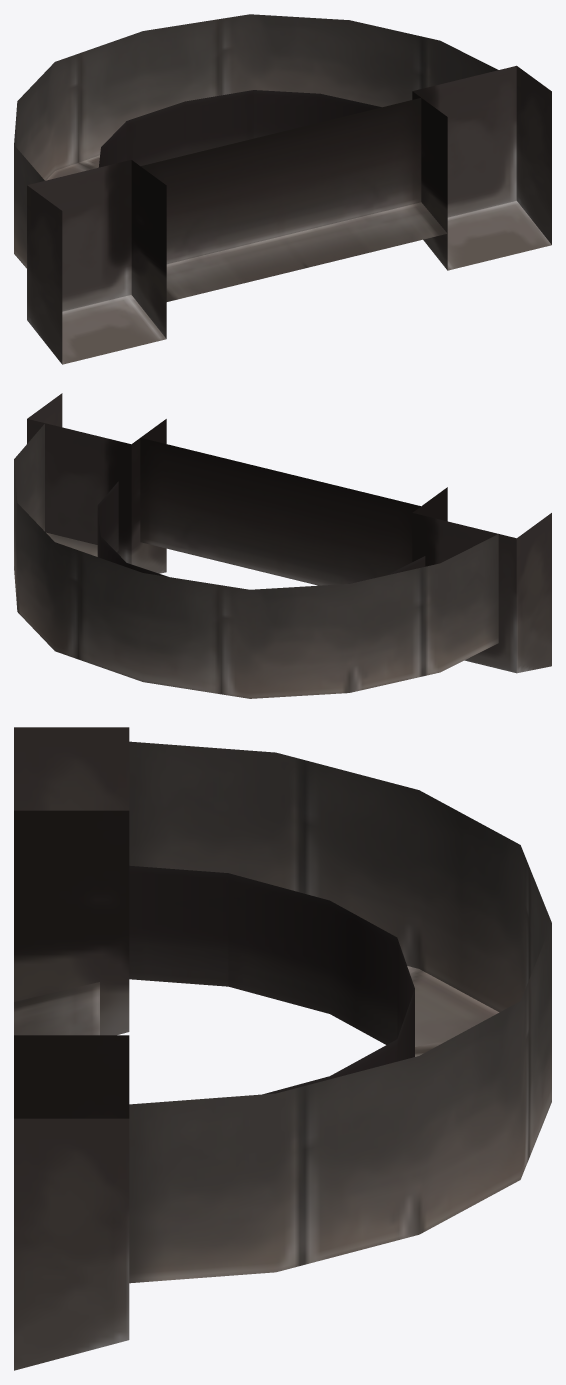
The model's file is Wall_props.fbx.
3 views of the same model, one above another, from view 1: azimuth 30°, elevation 25°; view 2: azimuth 150°, elevation 25°; view 3: azimuth 270°, elevation 25° (orthographic). The views are drawn at different scales.
Parts seen in each view (by area): view 1: Wall_props; view 2: Wall_props; view 3: Wall_props.
Part boxes in pixels (left/top/right/bottom): Wall_props: left=14, top=14, right=551, bottom=364; Wall_props: left=14, top=393, right=551, bottom=698; Wall_props: left=14, top=727, right=551, bottom=1370.
Size of the model in its own units: 1.43 by 0.4276 by 0.8276.
